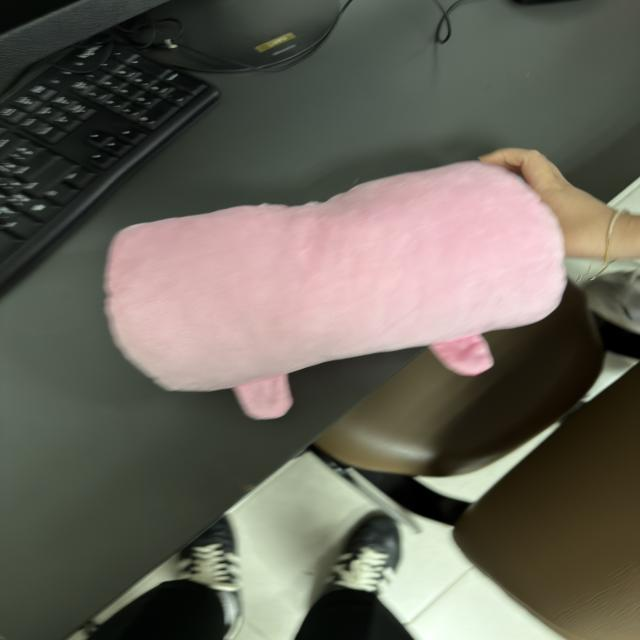pinkpillow: (96, 160, 567, 402)
